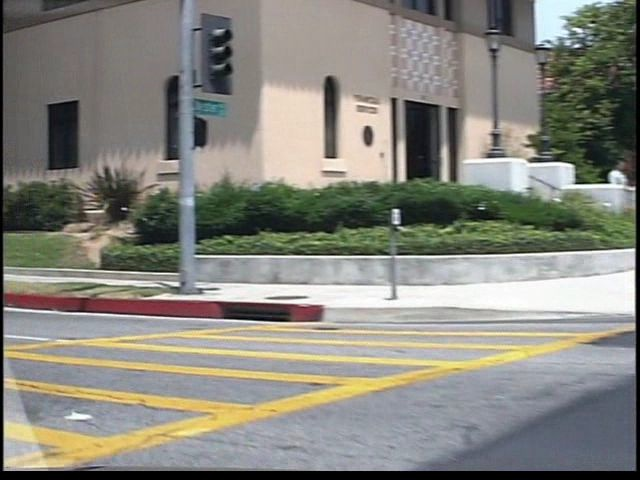person: (587, 155, 613, 230)
